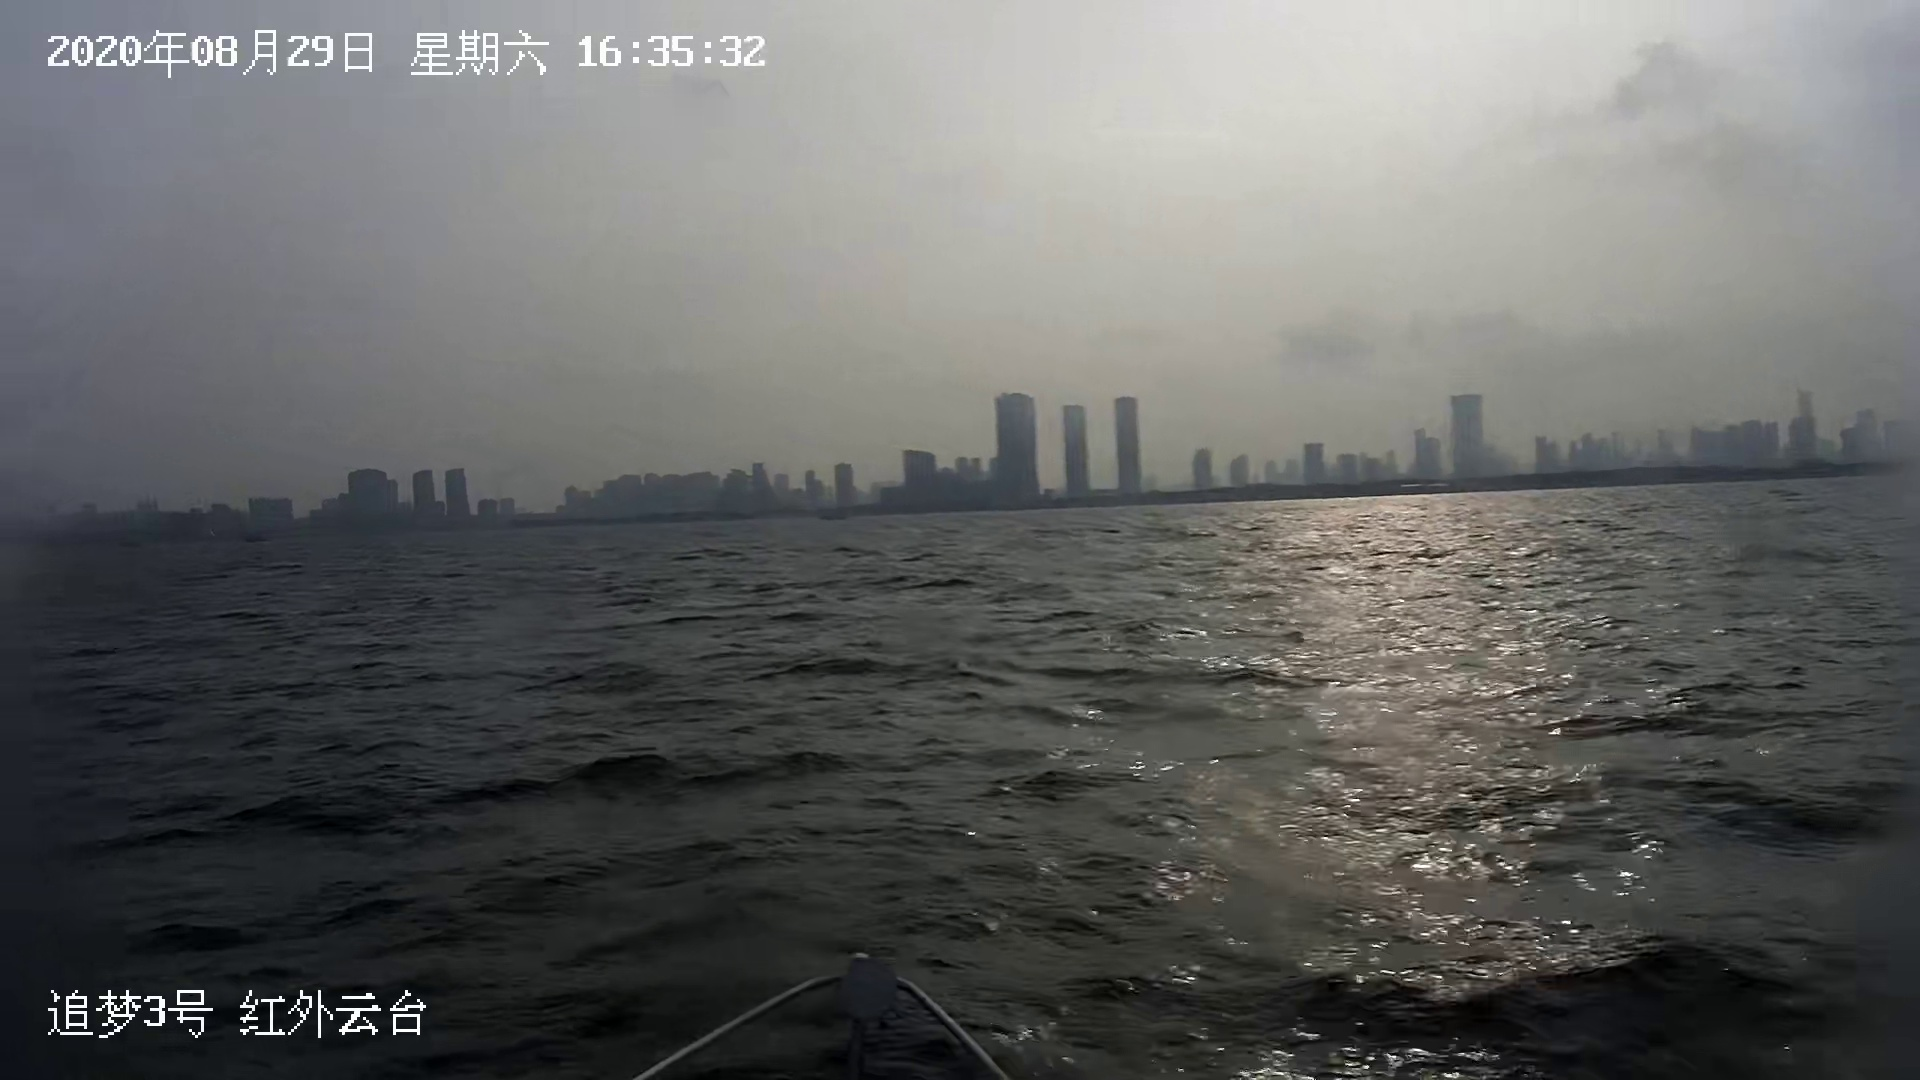coast: (29, 382, 1920, 542)
